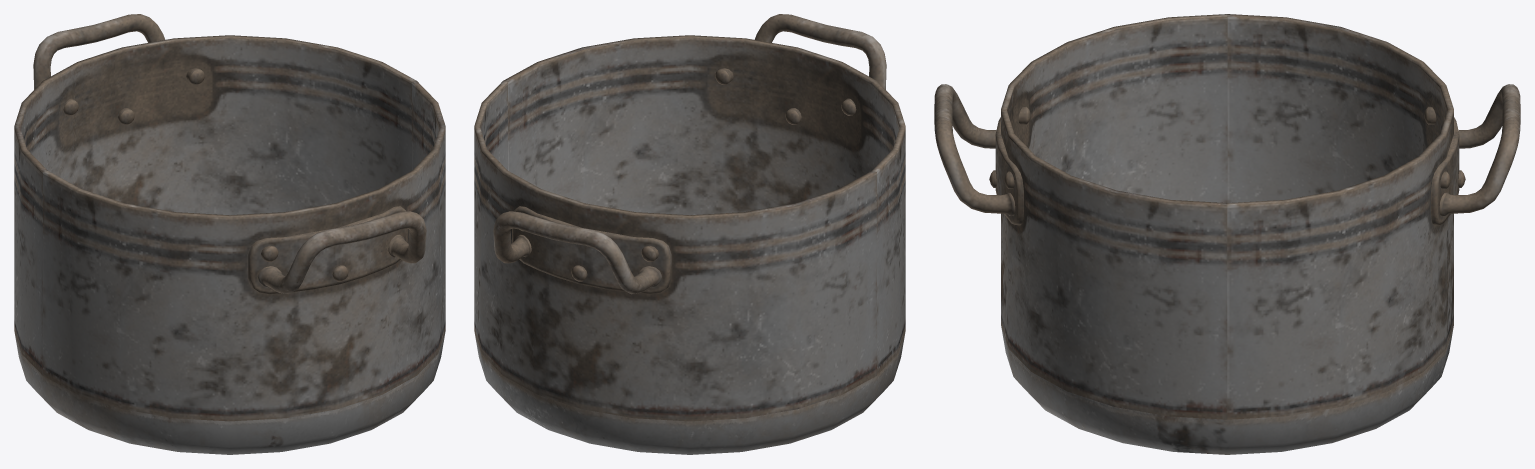
File: SM_Kitchenware01_2_LOD0.glb
3 renders of one model, left to right at view 1: azimuth 30°, elevation 25°; view 2: azimuth 150°, elevation 25°; view 3: azimuth 270°, elevation 25°, orthographic. The views are drawn at different scales.
Visible parts, largest first — view 1: SM_Kitchenware01_2_LOD0; view 2: SM_Kitchenware01_2_LOD0; view 3: SM_Kitchenware01_2_LOD0.
Boxes of the visible parts, box(x1,y1,x2,y2) form: SM_Kitchenware01_2_LOD0: box(14, 14, 445, 454); SM_Kitchenware01_2_LOD0: box(474, 14, 905, 454); SM_Kitchenware01_2_LOD0: box(934, 14, 1520, 454).
Bounding box in the file's own units: 0.3366 × 0.2204 × 0.4351.
Materials: 1 (1 with a texture image).
